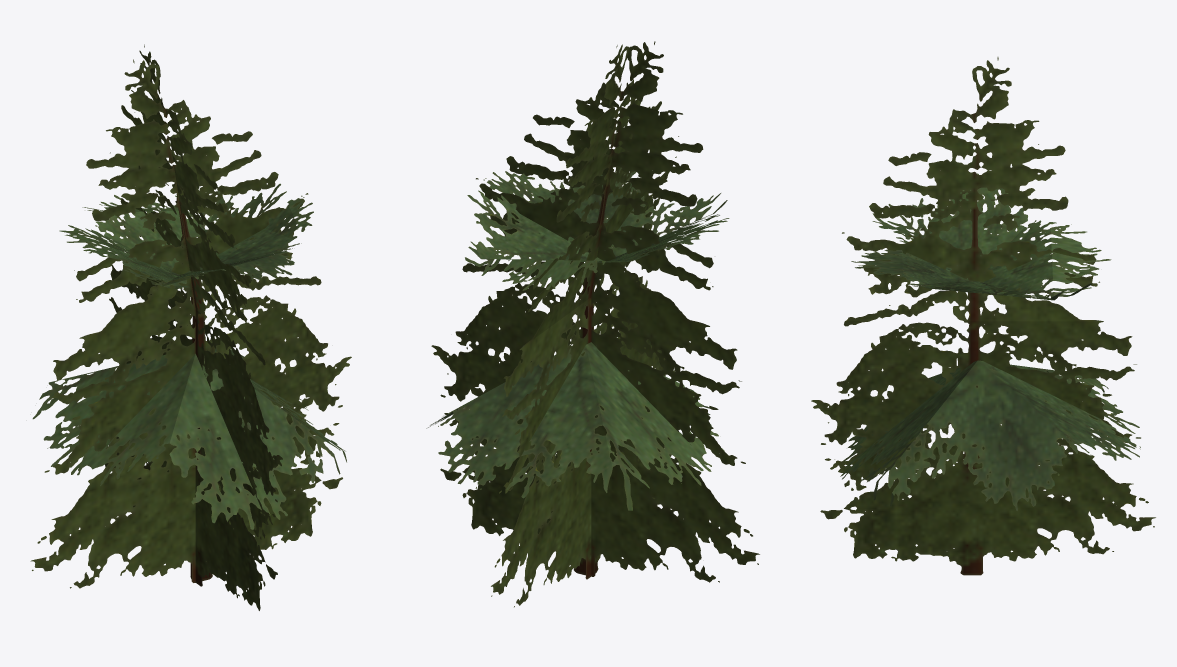
Rendered from forest_pine009.glb.
3 renders of one model, left to right at view 1: azimuth 30°, elevation 25°; view 2: azimuth 150°, elevation 25°; view 3: azimuth 270°, elevation 25°, orthographic. The views are drawn at different scales.
Size of the model in its own units: 3.93 by 6 by 3.93.
1 material, 1 textured.
